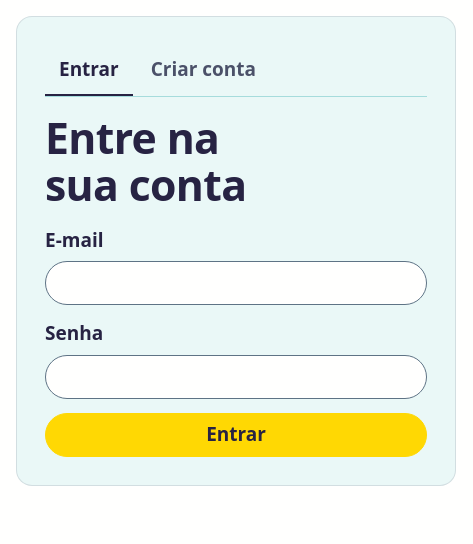
Login (entrar) › e-mail ou senha errados: mostra a mensagem do servidor, sem sair da tela
Type "voce@exemplo.com" into the field labelled "E-mail" at x=236, y=283, box [45,261,427,305]
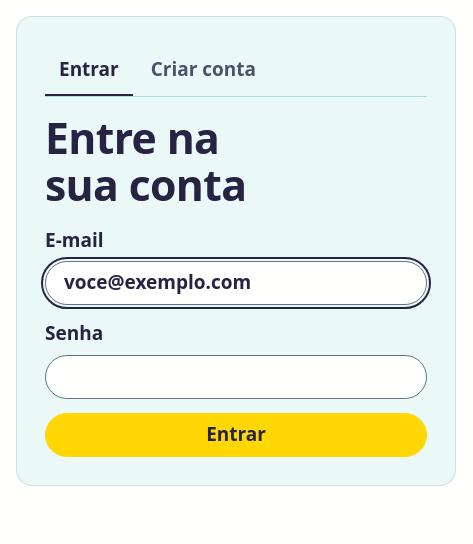
Type "senha-errada" into the password field labelled "Senha" at x=236, y=377, box [45,355,427,399]
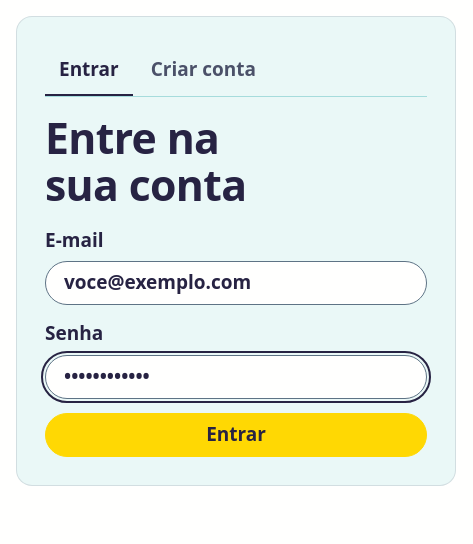
Click the button "Entrar" at x=236, y=435, box [45,413,427,457]
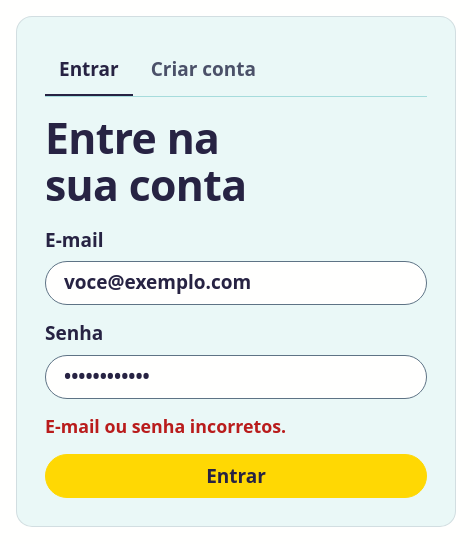
Expected: the button "Entrar" is enabled, [45,454,427,498]
Expected: the message reads "E-mail ou senha incorretos.", [45,414,286,438]
